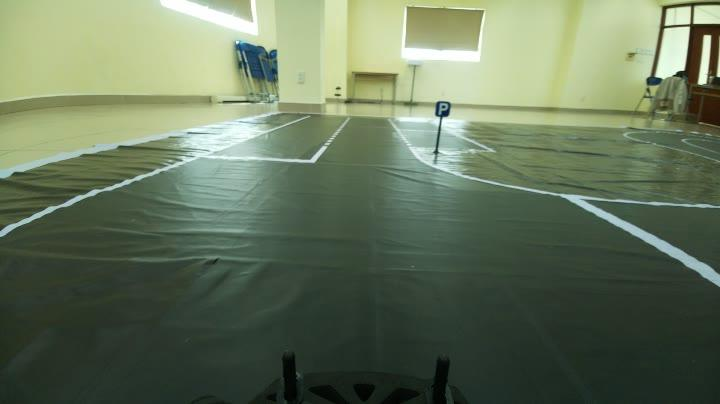parking: (432, 99, 455, 122)
